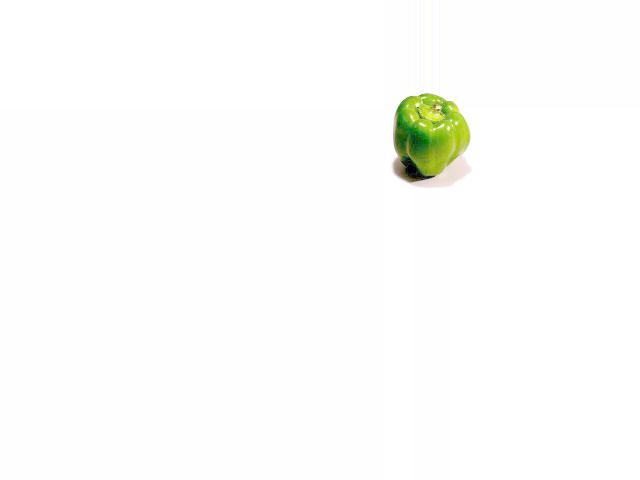bell_pepper: (391, 94, 473, 181)
